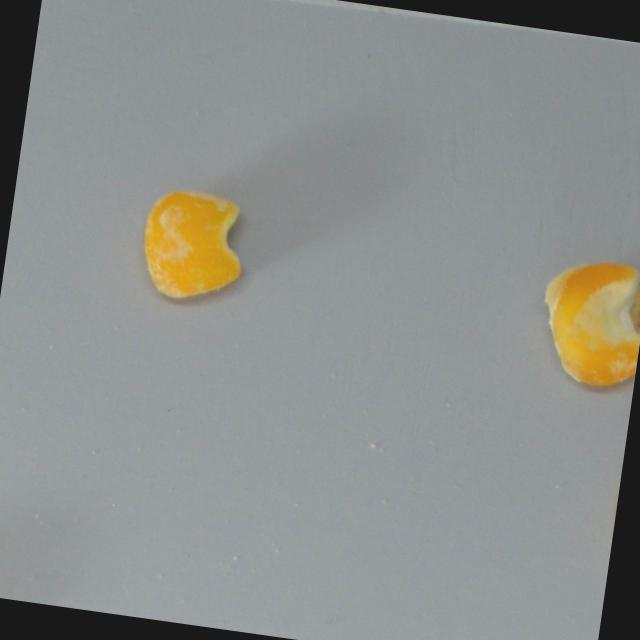pelicula: (532, 252, 640, 391), (134, 182, 252, 305)
